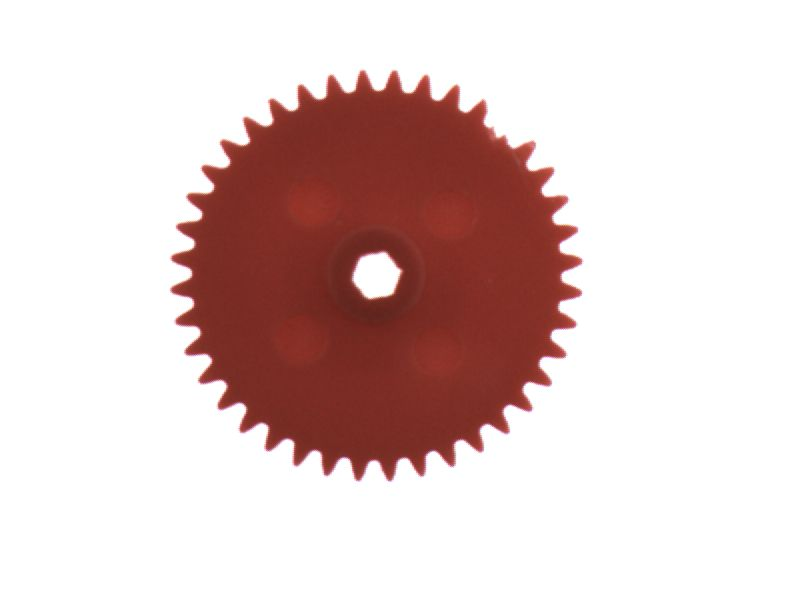defect_lack: (466, 100, 543, 154)
